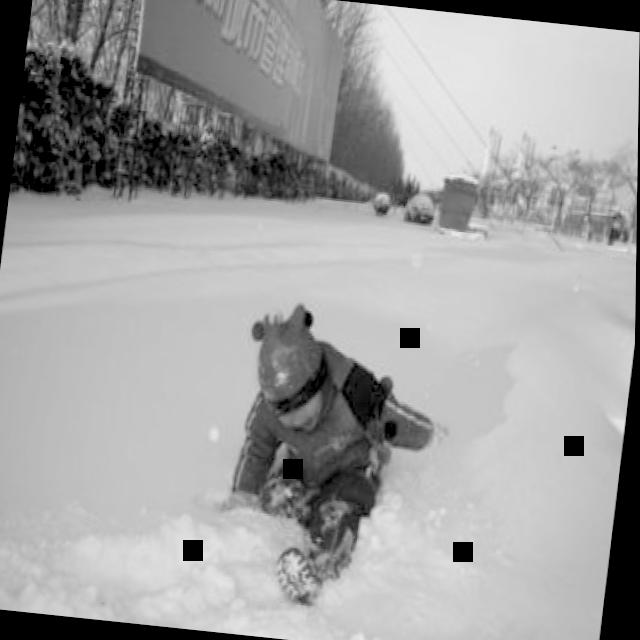Fall-Detected: (194, 275, 472, 625)
